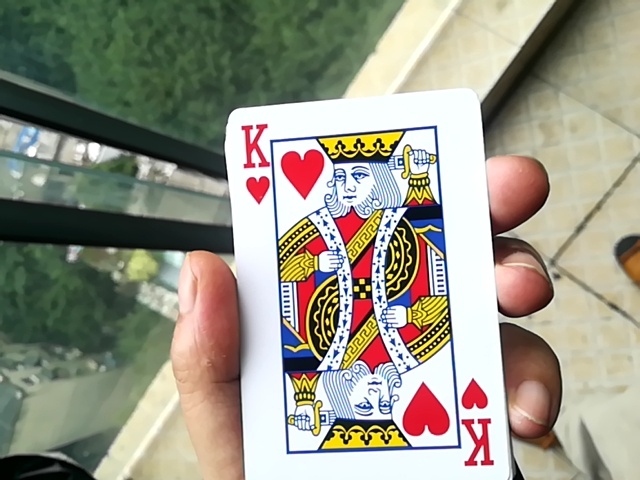hx k: (216, 81, 501, 480)
